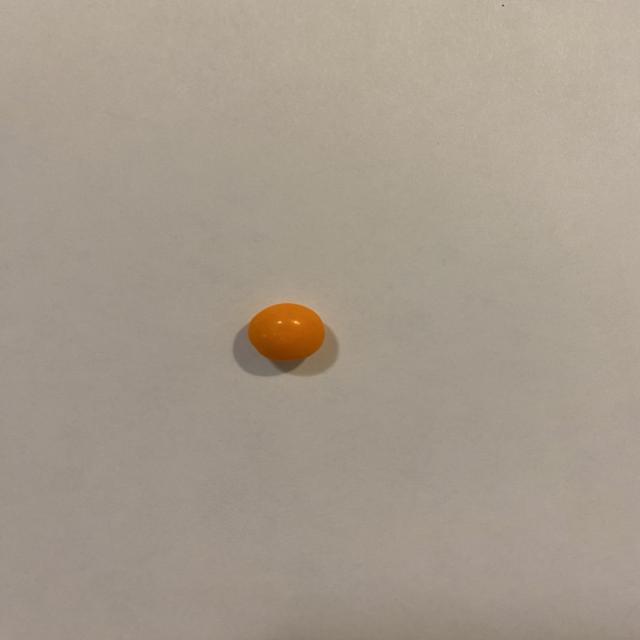smartie: (248, 303, 324, 361)
